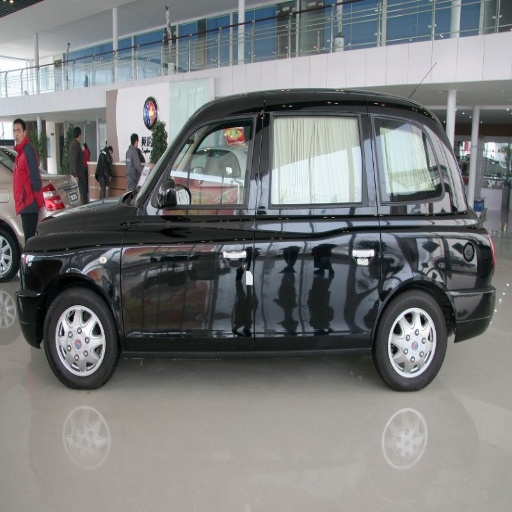trunk: (333, 216, 482, 335)
